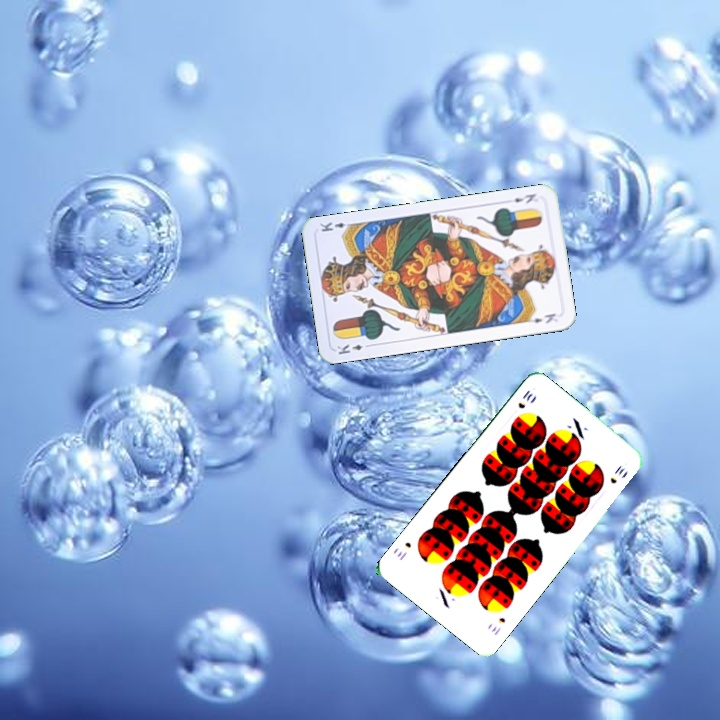EK: (333, 340, 374, 357), (510, 189, 538, 206)
S10: (514, 386, 535, 411), (487, 613, 508, 638)
